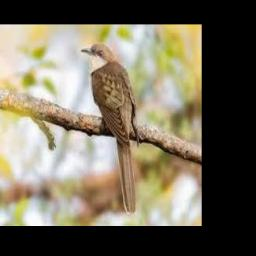Cuckoo: (80, 43, 138, 214)
